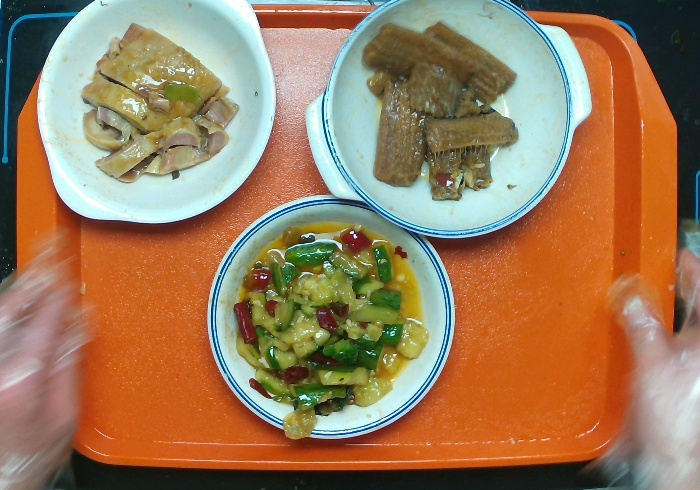HZYJPL-Dai_Er_Bai_Yuan_Wan: (34, 1, 285, 220)
HZYJPL-Lan_Bian_Dai_Er_Wan: (303, 1, 590, 242)
HZYJPL-Lan_Bian_Yuan_Die: (203, 191, 457, 445)
